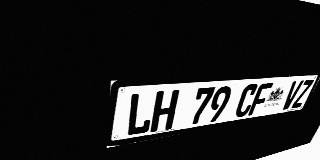7: (187, 87, 216, 126)
9: (206, 86, 233, 123)
C: (233, 84, 260, 118)
F: (248, 83, 273, 116)
H: (150, 90, 180, 132)
L: (125, 92, 156, 137)
V: (280, 80, 304, 110)
Z: (291, 79, 314, 108)
